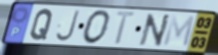J: (54, 9, 81, 43)
M: (161, 14, 197, 49)
N: (138, 13, 173, 48)
O: (81, 9, 113, 46)
Q: (29, 8, 55, 42)
T: (113, 10, 139, 47)
